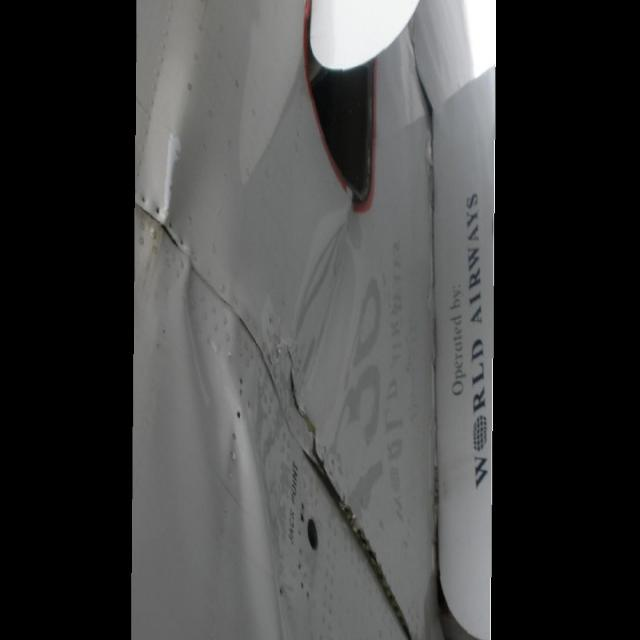Crack: (280, 344, 331, 488)
